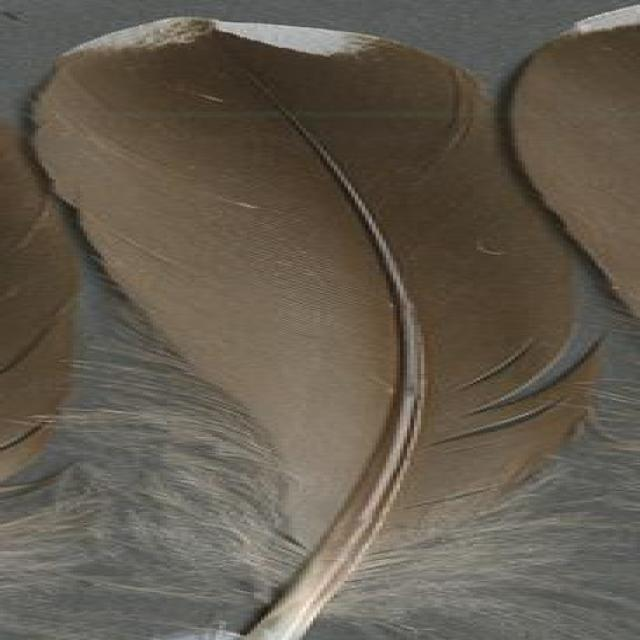feather: (26, 15, 587, 640)
